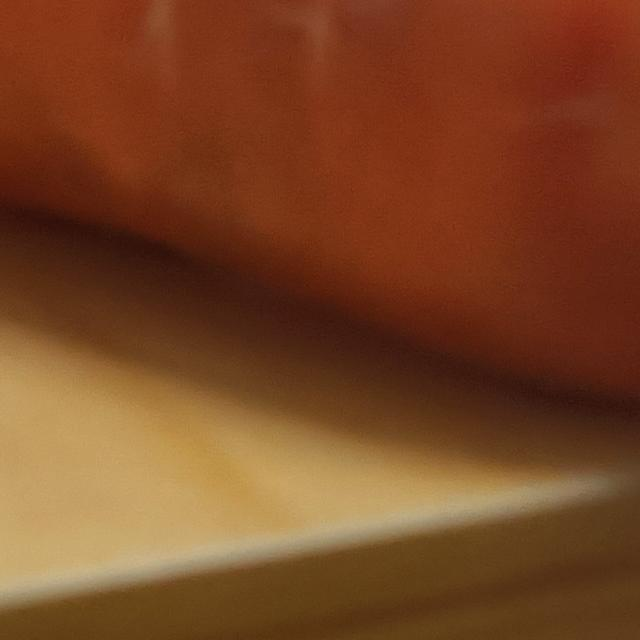carrot: (1, 1, 640, 415)
